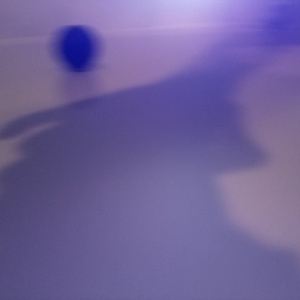dead_ball: (51, 24, 98, 70)
